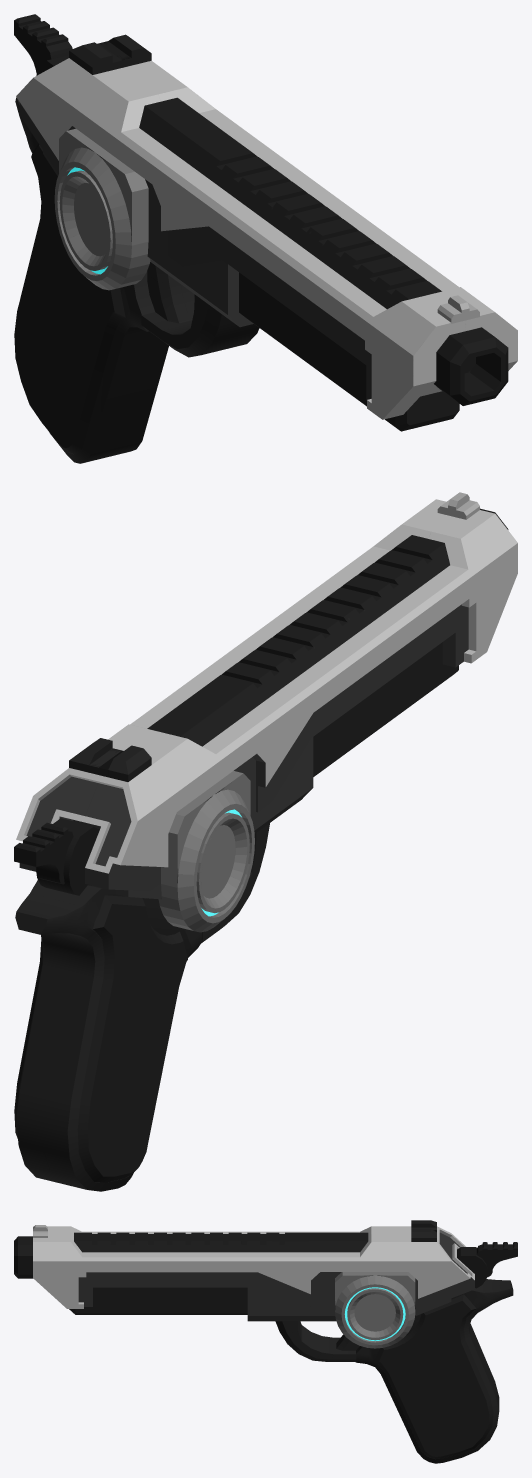
The model's file is finaltwo.glb.
The picture shows the model from 3 angles, top to bottom: view 1: azimuth 30°, elevation 25°; view 2: azimuth 150°, elevation 25°; view 3: azimuth 270°, elevation 25°; orthographic projection. The views are drawn at different scales.
Visible parts, largest first — view 1: slider, padding, railing, energy, grip, body2, muzzle, body, triggerGuard, backsights, trigger, hammer (+1 smaller); view 2: slider, padding, grip, railing, energy, body2, body, hammer, backsights, hammerPivet, triggerGuard; view 3: slider, padding, railing, energy, body2, grip, body, triggerGuard, hammer, muzzle, hammerPivet, backsights.
Boxes of the visible parts, box(x1,y1,x2,y2) form: slider: box(16, 58, 517, 419); padding: box(14, 143, 125, 453); railing: box(139, 97, 441, 309); energy: box(54, 128, 150, 290); grip: box(15, 97, 168, 463); body2: box(239, 272, 459, 431); muzzle: box(434, 327, 508, 405); body: box(43, 150, 253, 327); triggerGuard: box(141, 295, 259, 357); backsights: box(69, 34, 151, 74); trigger: box(147, 262, 194, 323); hammer: box(14, 14, 72, 72); slider: box(16, 499, 517, 890); padding: box(14, 895, 187, 1182); grip: box(15, 880, 202, 1191); railing: box(147, 535, 449, 746); energy: box(158, 771, 254, 932); body2: box(313, 642, 458, 776); body: box(59, 737, 313, 899); hammer: box(14, 822, 73, 884); backsights: box(69, 738, 151, 781); hammerPivet: box(35, 818, 99, 895); triggerGuard: box(201, 823, 269, 943); slider: box(33, 1226, 474, 1308); padding: box(374, 1294, 493, 1458); railing: box(74, 1232, 368, 1252); energy: box(335, 1272, 415, 1348); body2: box(69, 1287, 247, 1314); grip: box(355, 1279, 513, 1463); body: box(247, 1272, 451, 1321); triggerGuard: box(275, 1321, 356, 1361); hammer: box(476, 1242, 517, 1277); muzzle: box(14, 1236, 32, 1278); hammerPivet: box(457, 1247, 487, 1288); backsights: box(411, 1220, 436, 1241).
Size of the model in its own units: 0.6428 by 1.85 by 3.66.
1 material, 1 textured.
